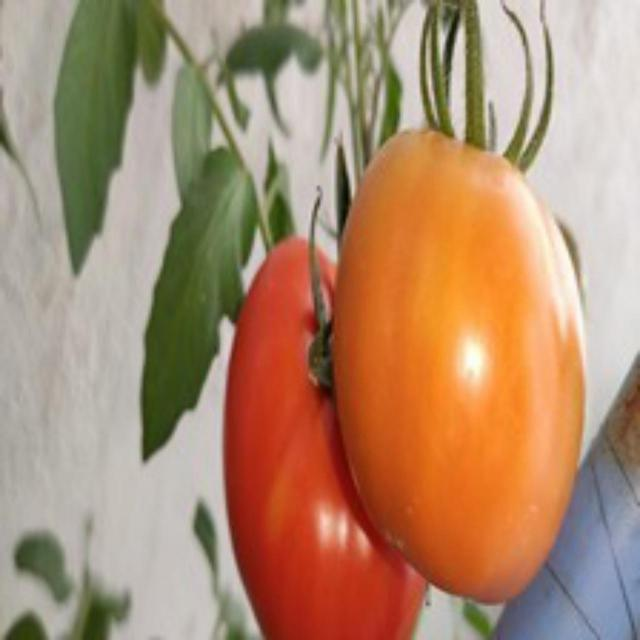tomato: (333, 109, 605, 616)
